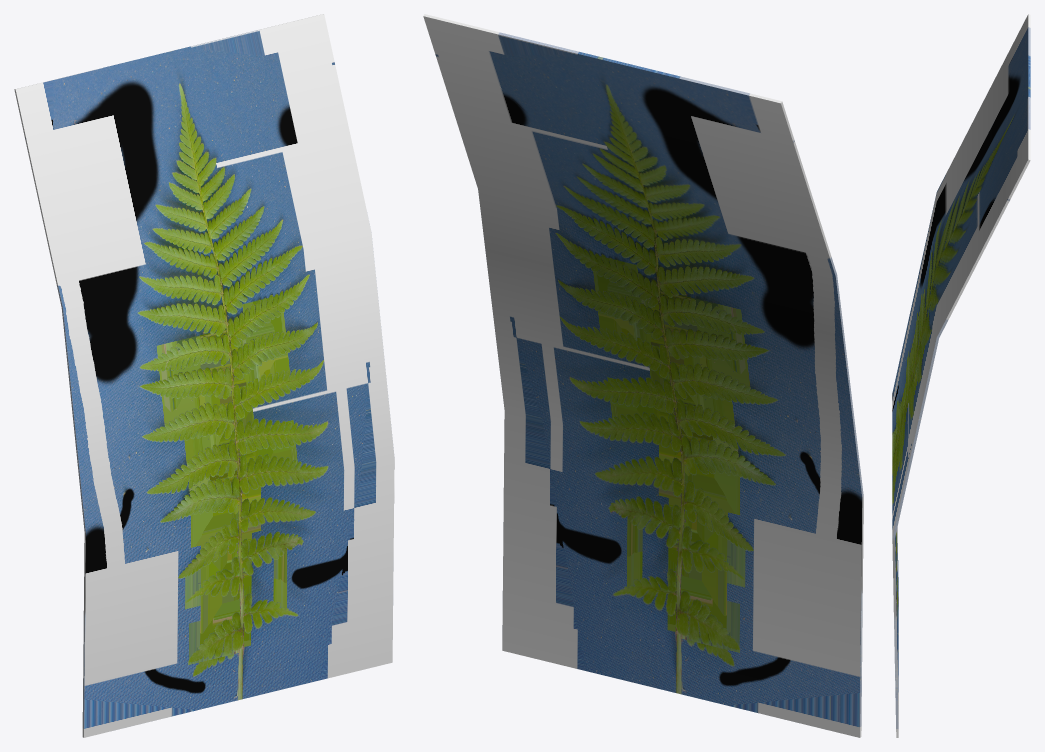
Rendered from Fern_Single_Leaf.FBX.
3 views of the same model, side by side, from view 1: azimuth 30°, elevation 25°; view 2: azimuth 150°, elevation 25°; view 3: azimuth 270°, elevation 25° (orthographic). The views are drawn at different scales.
Visible parts, largest first — view 1: Fern; view 2: Fern; view 3: Fern.
Boxes of the visible parts, <box> form: Fern: <box>14,14,394,737</box>; Fern: <box>423,14,863,737</box>; Fern: <box>892,14,1030,737</box>.
Bounding box in the file's own units: 31.43 × 58.25 × 12.61.
